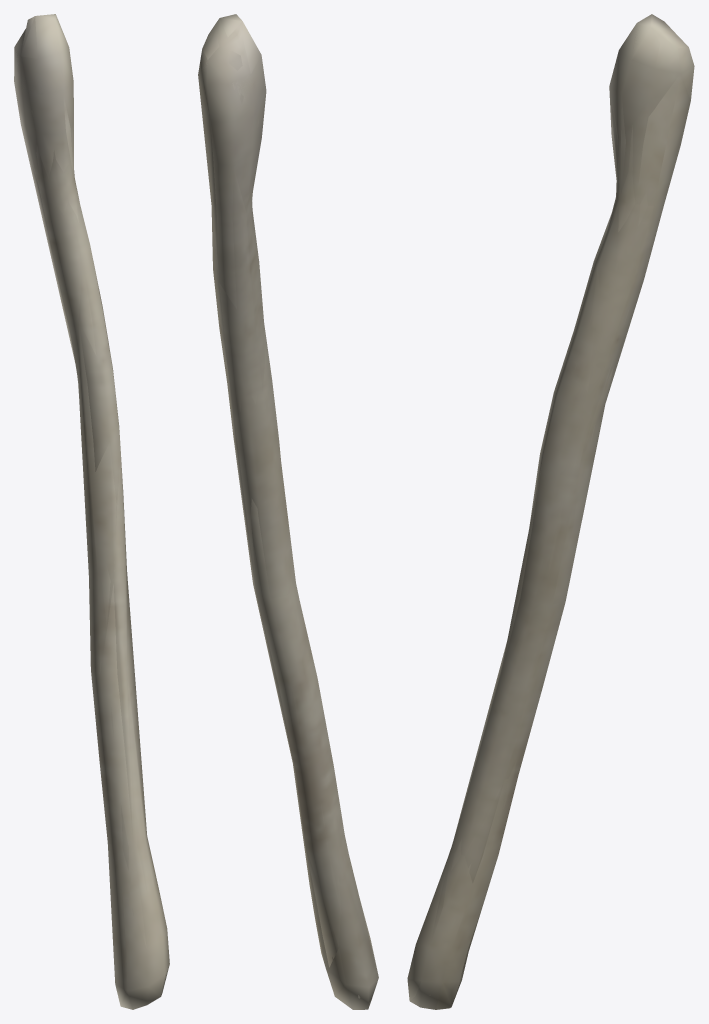
Rendered from R metatarsi tertium.fbx.
3 views of the same model, side by side, from view 1: azimuth 30°, elevation 25°; view 2: azimuth 150°, elevation 25°; view 3: azimuth 270°, elevation 25° (orthographic). The views are drawn at different scales.
Visible parts, largest first — view 1: R metatarsi tertium, R metatarsi tertium low, R metatarsi tertium high; view 2: R metatarsi tertium, R metatarsi tertium low, R metatarsi tertium high; view 3: R metatarsi tertium, R metatarsi tertium low, R metatarsi tertium high.
Boxes of the visible parts, x1,y1,x2,y2 form: R metatarsi tertium: (14,14,169,1009); R metatarsi tertium low: (16,14,169,1009); R metatarsi tertium high: (17,33,149,915); R metatarsi tertium: (198,14,378,1009); R metatarsi tertium low: (198,18,378,1009); R metatarsi tertium high: (218,50,360,998); R metatarsi tertium: (407,14,694,1009); R metatarsi tertium low: (407,14,691,1009); R metatarsi tertium high: (429,80,648,995).
Bounding box in the file's own units: 0.3554 × 5.54 × 1.45.
1 material, 1 textured.
